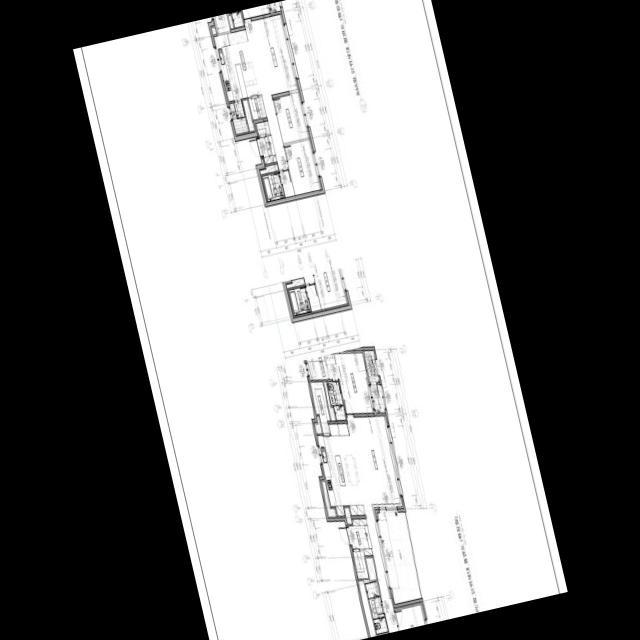background: (73, 0, 567, 640)
space_balconi: (377, 511, 420, 603), (229, 100, 248, 133), (370, 383, 385, 412), (270, 1, 280, 11)
space_bedroom: (334, 352, 373, 412), (284, 139, 321, 194), (273, 91, 309, 142), (394, 603, 426, 630)
space_dressroom: (305, 353, 338, 379)
space_front: (348, 518, 372, 554), (259, 134, 276, 163)
space_kitchen: (317, 422, 364, 515), (213, 29, 260, 100)
space_living_room: (346, 415, 402, 632), (244, 13, 298, 169)
space_other: (358, 580, 388, 637), (310, 381, 330, 432), (322, 481, 336, 515), (324, 380, 335, 420), (248, 95, 266, 119), (353, 550, 368, 578), (279, 169, 294, 196), (242, 99, 254, 130), (213, 13, 230, 33), (365, 557, 376, 580), (256, 120, 269, 135), (260, 163, 278, 173), (344, 506, 352, 523), (315, 415, 322, 432), (227, 13, 233, 28), (211, 26, 216, 33)
space_outdoor_room: (363, 349, 379, 381)
space_toilet: (365, 581, 387, 633), (327, 381, 345, 419), (262, 171, 284, 200), (231, 10, 243, 27)
